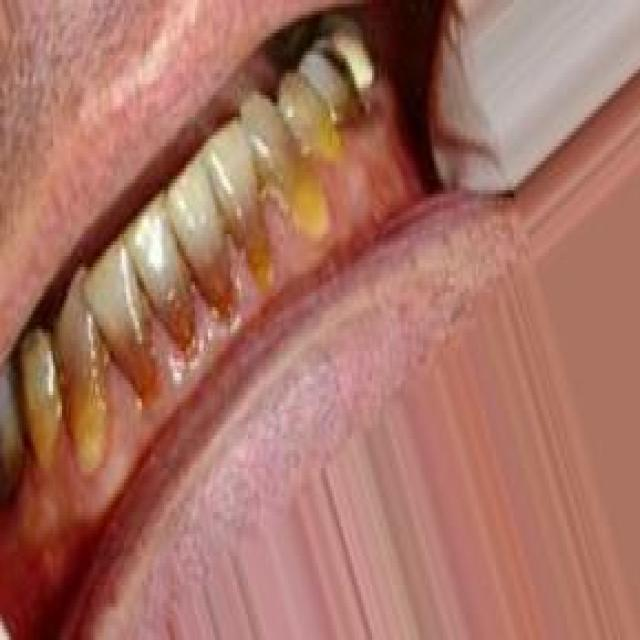caries: (316, 37, 354, 90)
